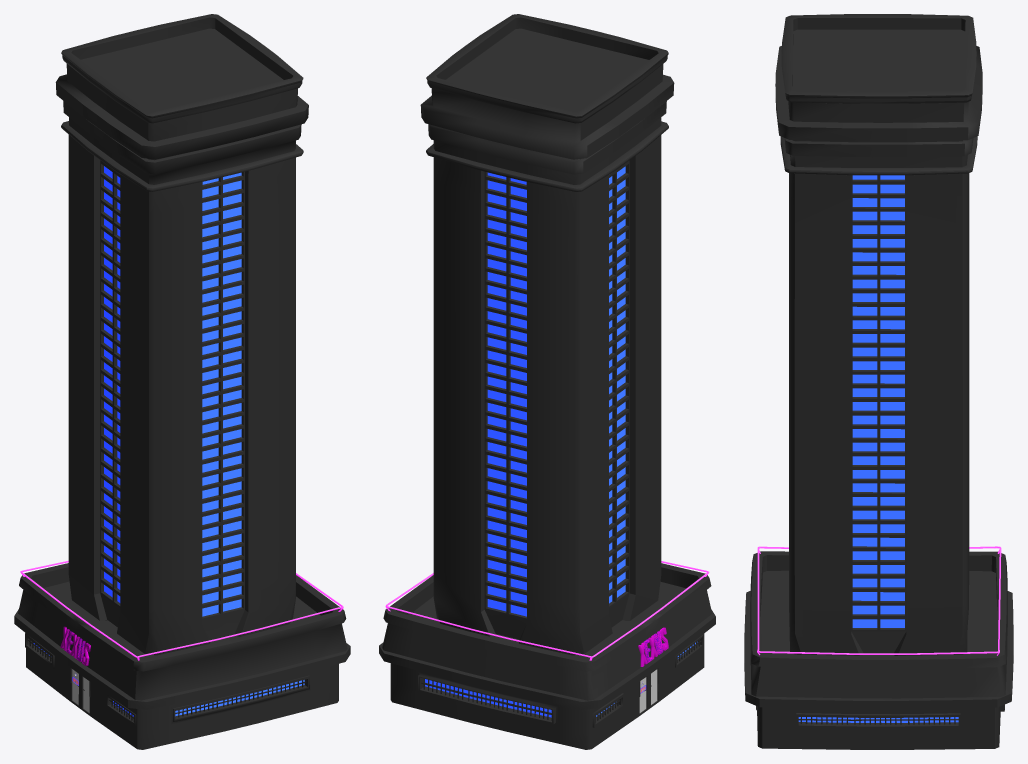
The model's file is edificio xexus.fbx.
3 renders of one model, left to right at view 1: azimuth 30°, elevation 25°; view 2: azimuth 150°, elevation 25°; view 3: azimuth 270°, elevation 25°, orthographic. The views are drawn at different scales.
Parts seen in each view (by area): view 1: Cylinder.017; view 2: Cylinder.017; view 3: Cylinder.017.
Boxes of the visible parts, <box> form: Cylinder.017: <box>14,14,350,749</box>; Cylinder.017: <box>379,14,715,749</box>; Cylinder.017: <box>744,14,1013,749</box>.
Size of the model in its own units: 2350 by 6196 by 2350.
